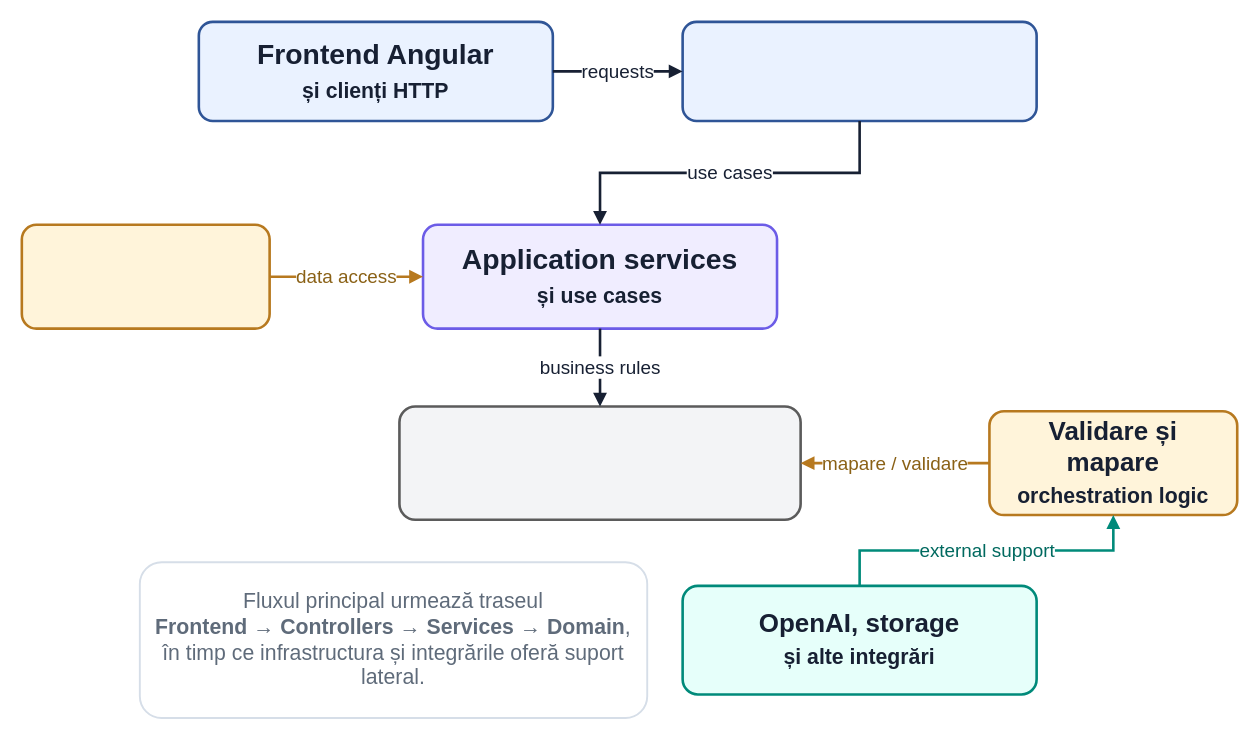
The diagram is 1259 pixels wide and 739 high, and some of its shapes have lost their labels. The shapes that lost their labels are listed below. From the top down, each one's centre as x and y in pixels, then its label:
At (859,71): "Controllers, DTO-uri și middleware".
At (145,276): "Repositories EF Core și persistență".
At (599,462): "Domain + IR entități, reguli și modele stabile".
